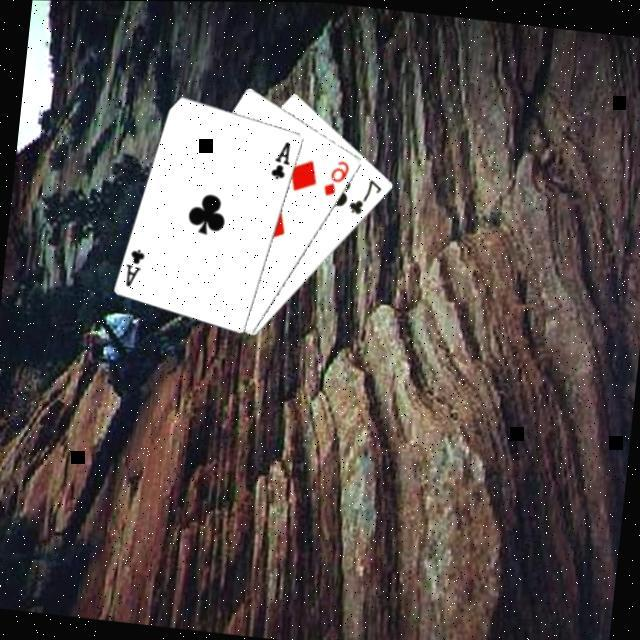6D: (319, 153, 351, 198)
7C: (344, 171, 385, 217)
AC: (267, 134, 294, 180), (120, 242, 147, 288)
